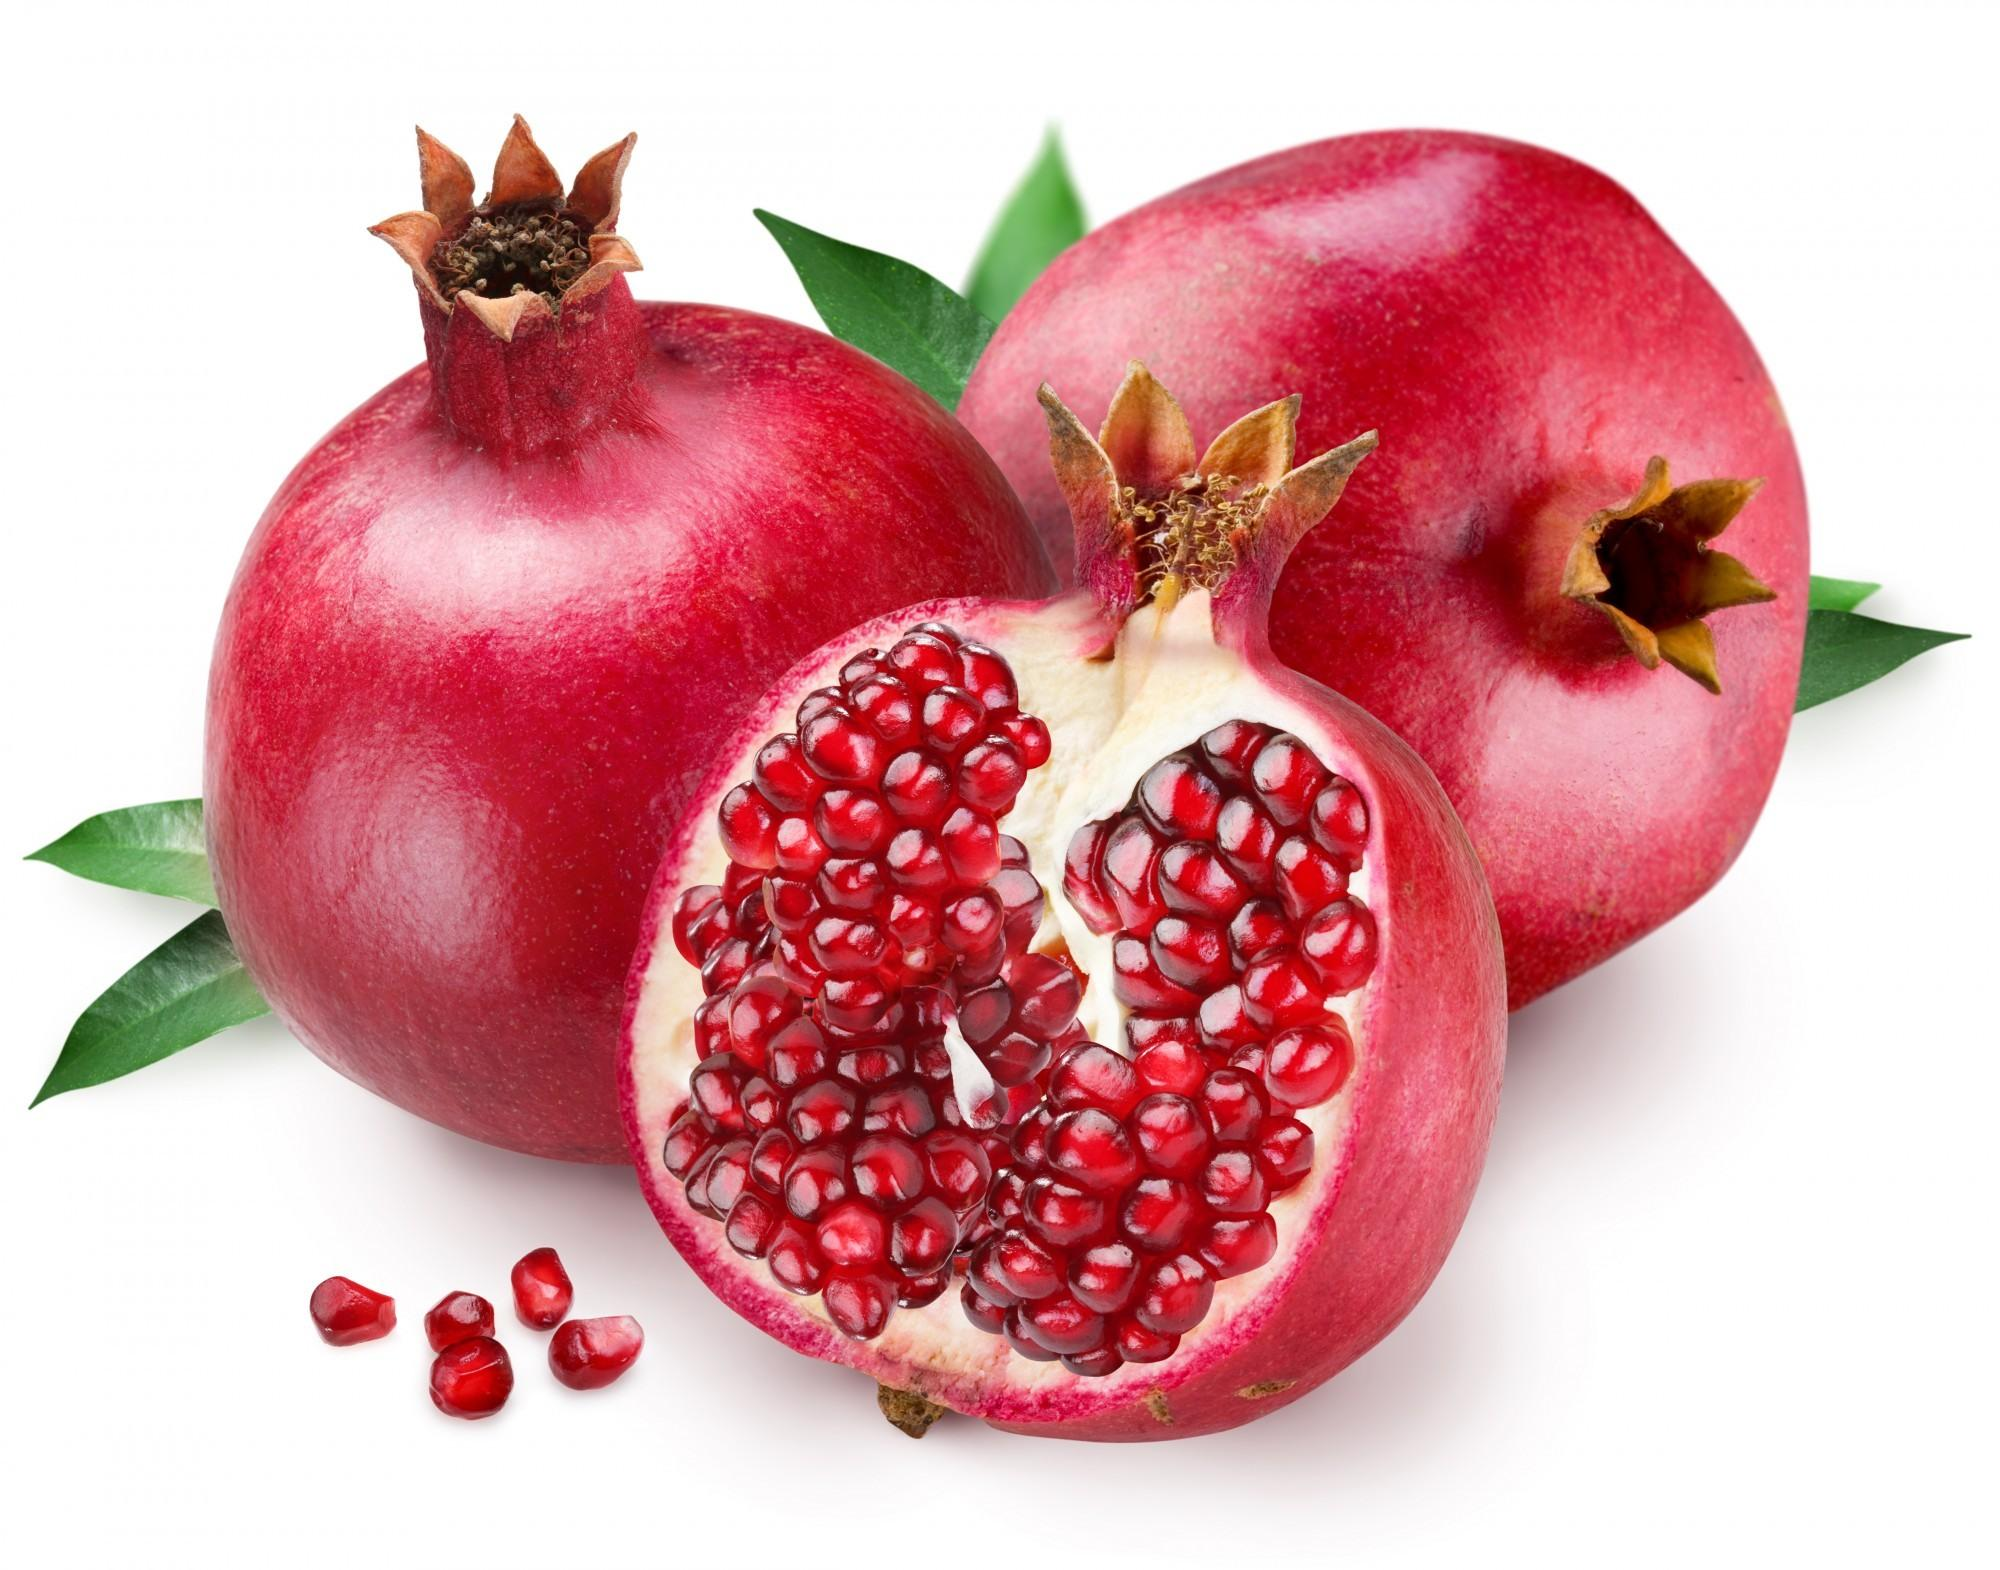pomegranate: (612, 359, 1511, 1443), (198, 110, 1055, 1166), (951, 125, 1813, 1013), (547, 1313, 643, 1390), (429, 1336, 511, 1417), (308, 1275, 394, 1344), (510, 1245, 571, 1330), (424, 1289, 494, 1351), (877, 1383, 946, 1435)
